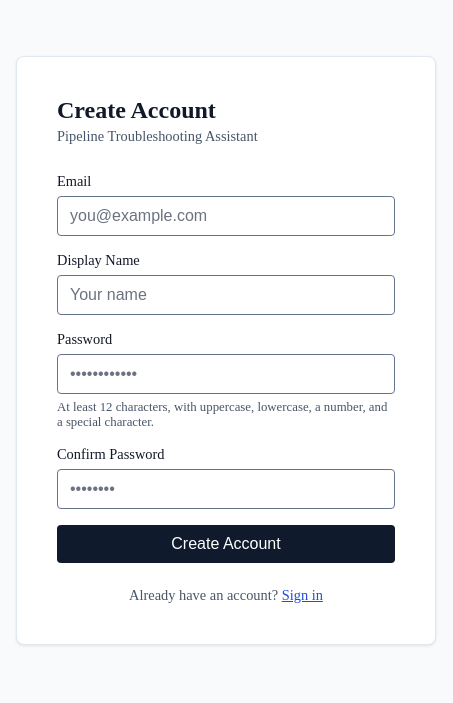
RegisterPage validation › shows required errors for all empty fields on submit
Click the button "Create Account" at (226, 544), box [57,524,395,562]
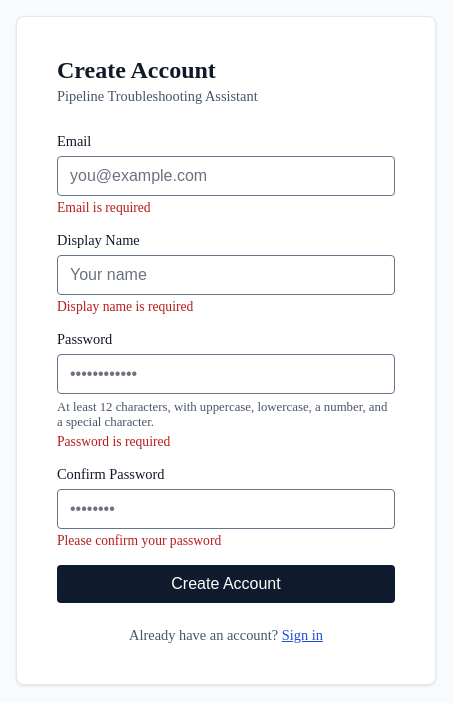
Expected: the text "Email is required" is shown, [57,200,151,214]
Expected: the text "Display name is required" is shown, [57,298,193,314]
Expected: the text "Password is required" is shown, [57,434,170,448]
